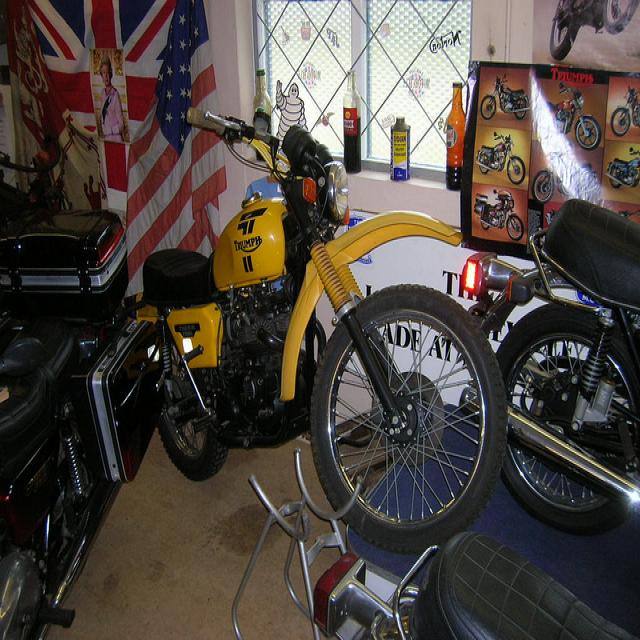motor: (134, 104, 504, 557), (230, 449, 634, 639), (460, 191, 640, 528), (475, 131, 527, 186), (474, 187, 525, 241), (482, 74, 529, 121)
